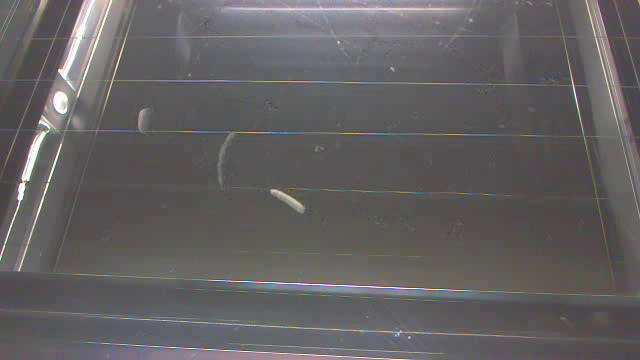alpha: (266, 187, 308, 214), (138, 106, 149, 136)
